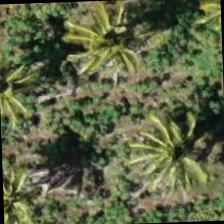Kelapa_Sawit: (133, 98, 223, 193), (66, 0, 160, 84), (1, 151, 66, 223), (0, 32, 47, 125)
